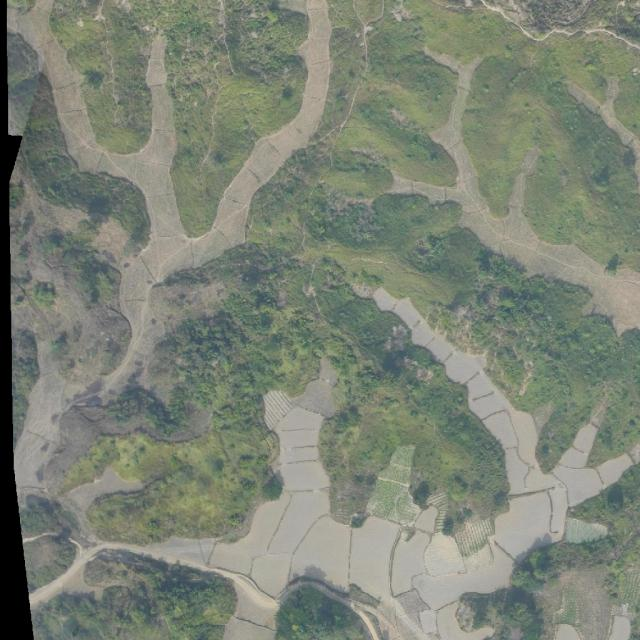agricultural_land: (28, 317, 640, 640), (437, 334, 559, 482), (571, 420, 600, 455), (558, 445, 590, 475), (609, 614, 635, 640), (555, 623, 581, 640)
greenland: (0, 77, 168, 275), (12, 526, 85, 592)
